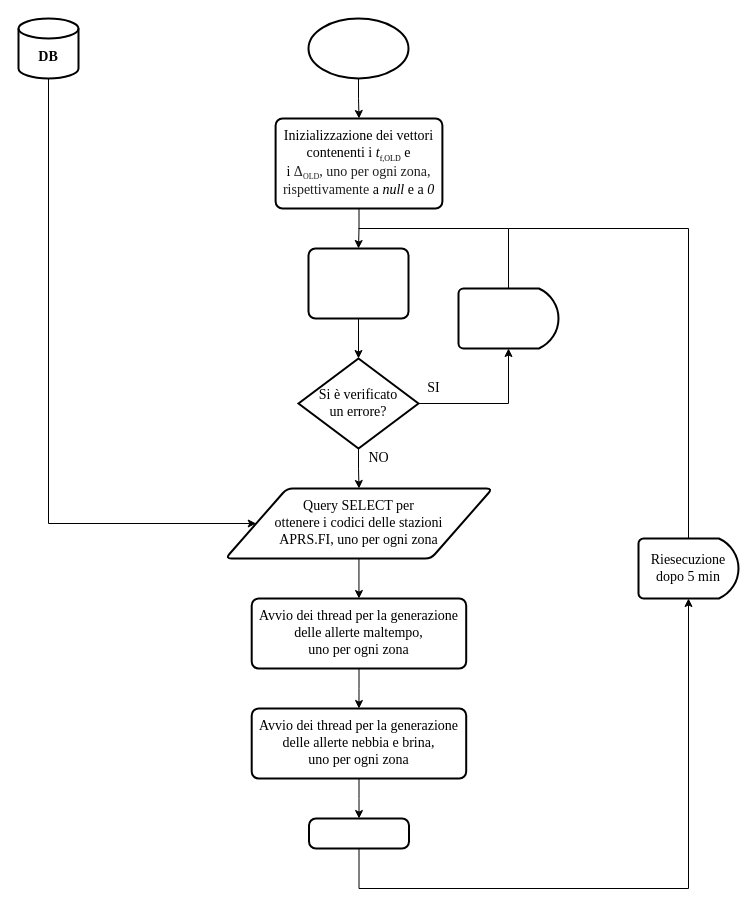
Image size: 756x914. Some labels were removed from this diagram. Each missing label, with the centre of its shape:
"Apertura della connessione con il DB" goes at (358,283).
"JOIN" goes at (359,833).
"Nuovo tentativo dopo 15 sec" goes at (508,318).
"START" goes at (358,48).
